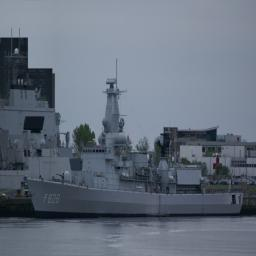Fragata: (26, 76, 245, 223)
